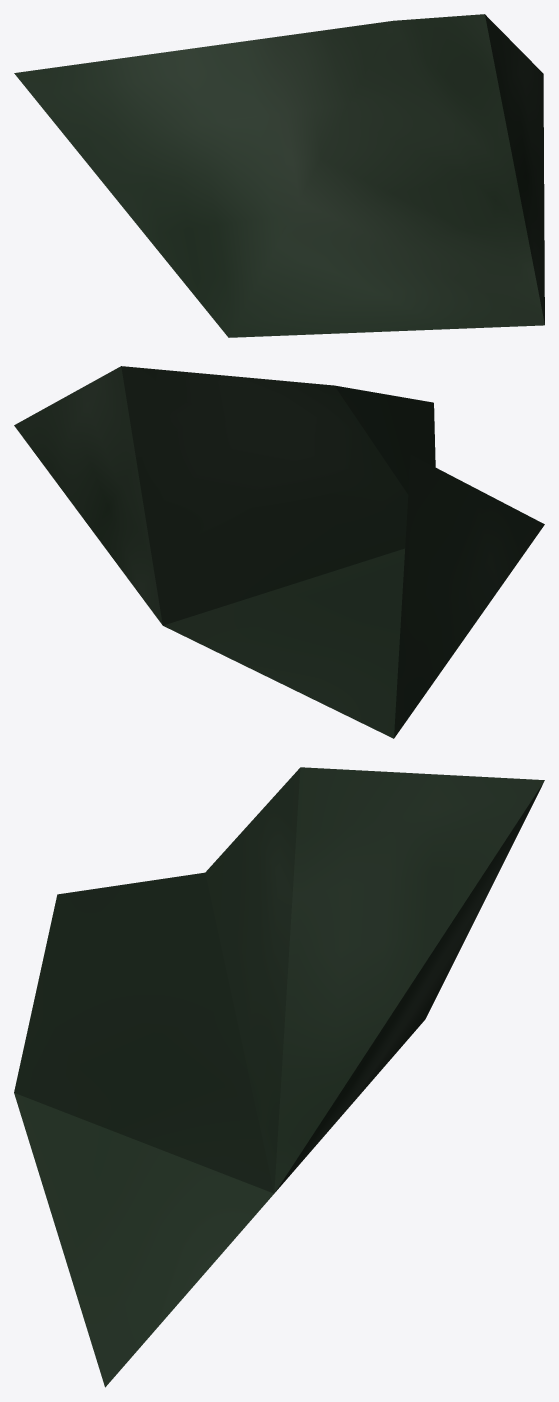
The picture shows the model from 3 angles, top to bottom: view 1: azimuth 30°, elevation 25°; view 2: azimuth 150°, elevation 25°; view 3: azimuth 270°, elevation 25°; orthographic projection. The views are drawn at different scales.
Bounding box in the file's own units: 0.5116 × 0.2647 × 0.3757.
Materials: 1 (1 with a texture image).
